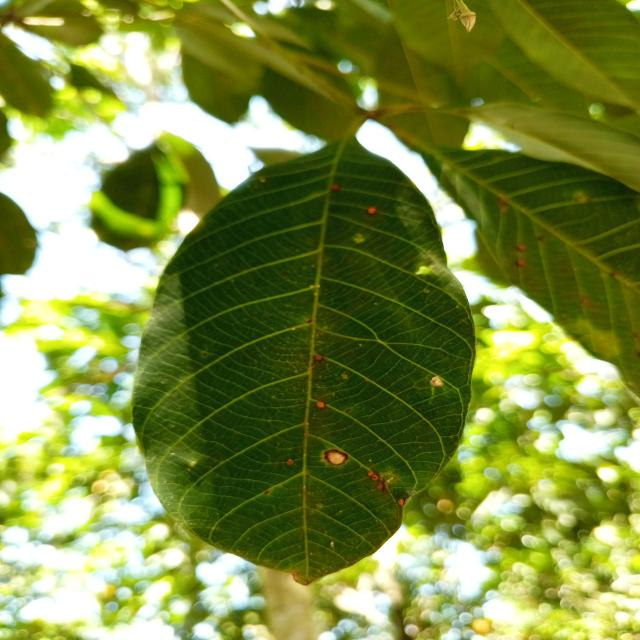Colletotrichum: (324, 449, 349, 466)
